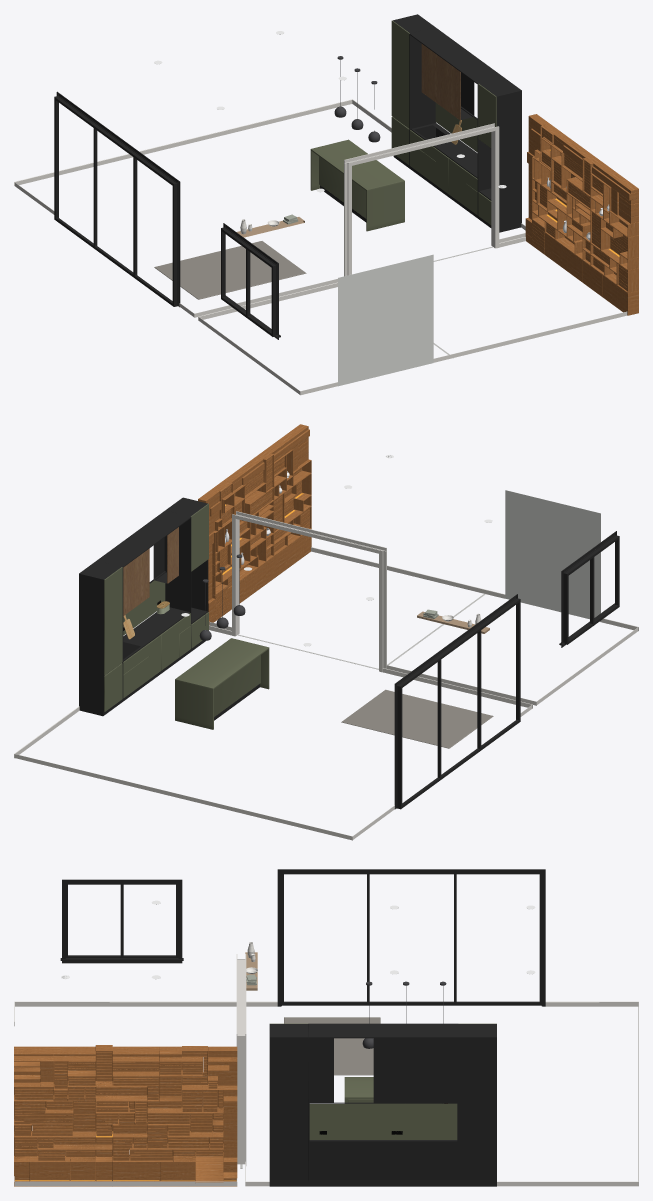
File: furniture_1.glb
3 views of the same model, one above another, from view 1: azimuth 30°, elevation 25°; view 2: azimuth 150°, elevation 25°; view 3: azimuth 270°, elevation 25° (orthographic). The views are drawn at different scales.
Visible parts, largest first — view 1: GF_Modern Abstract Decorative Shelf, GF_CFG_VanityWall, GF_Plane.060, GF_Plane.059, GF_CFG_Skirting, GF_Fix_Island_Body.001, GF_CFG_Rug, GF_Fix_WindowFrame_Main, GF_CFG_DoorTrim, GF_shelf.001, GF_Plane.061, GF_Plane.057 (+4 smaller); view 2: GF_Modern Abstract Decorative Shelf, GF_CFG_VanityWall, GF_Plane.059, GF_Plane.061, GF_Fix_Island_Body.001, GF_CFG_Skirting, GF_Plane.060, GF_CFG_Rug, GF_Fix_WindowFrame_Main, GF_CFG_DoorTrim, GF_shelf.001, GF_Plane.057 (+4 smaller); view 3: GF_Plane.061, GF_shelf.001, GF_Modern Abstract Decorative Shelf, GF_Plane.060, GF_Splashback, GF_CFG_Skirting, GF_Fix_WindowFrame_Main, GF_CFG_WindowTrim_Main, GF_CFG_DoorTrim, GF_CFG_Rug, GF_CFG_WindowTrim_Bed, GF_Fix_WindowFrame_Bed (+1 smaller).
Boxes of the visible parts, bbox=[...] form: GF_Modern Abstract Decorative Shelf: bbox=[525, 114, 638, 315]; GF_CFG_VanityWall: bbox=[338, 254, 433, 386]; GF_Plane.060: bbox=[409, 27, 521, 227]; GF_Plane.059: bbox=[391, 20, 496, 224]; GF_CFG_Skirting: bbox=[14, 99, 627, 395]; GF_Fix_Island_Body.001: bbox=[310, 139, 404, 231]; GF_CFG_Rug: bbox=[154, 241, 306, 299]; GF_Fix_WindowFrame_Main: bbox=[54, 96, 176, 306]; GF_CFG_DoorTrim: bbox=[344, 123, 499, 276]; GF_shelf.001: bbox=[535, 128, 627, 290]; GF_Plane.061: bbox=[393, 14, 521, 232]; GF_Plane.057: bbox=[421, 44, 460, 120]; GF_Modern Abstract Decorative Shelf: bbox=[198, 424, 311, 625]; GF_CFG_VanityWall: bbox=[505, 490, 600, 621]; GF_Plane.059: bbox=[104, 503, 208, 711]; GF_Plane.061: bbox=[79, 536, 205, 716]; GF_Fix_Island_Body.001: bbox=[175, 638, 269, 729]; GF_CFG_Skirting: bbox=[14, 547, 638, 840]; GF_Plane.060: bbox=[97, 497, 208, 698]; GF_CFG_Rug: bbox=[341, 689, 493, 748]; GF_Fix_WindowFrame_Main: bbox=[398, 598, 520, 809]; GF_CFG_DoorTrim: bbox=[232, 511, 386, 672]; GF_shelf.001: bbox=[215, 456, 309, 587]; GF_Plane.057: bbox=[123, 527, 178, 615]; GF_Plane.061: bbox=[269, 1024, 496, 1186]; GF_shelf.001: bbox=[14, 1051, 222, 1160]; GF_Modern Abstract Decorative Shelf: bbox=[14, 1045, 237, 1186]; GF_Plane.060: bbox=[269, 1023, 458, 1181]; GF_Splashback: bbox=[309, 1104, 457, 1139]; GF_CFG_Skirting: bbox=[14, 1001, 638, 1186]; GF_Fix_WindowFrame_Main: bbox=[282, 873, 541, 1005]; GF_CFG_WindowTrim_Main: bbox=[277, 869, 545, 1006]; GF_CFG_DoorTrim: bbox=[236, 954, 246, 1165]; GF_CFG_Rug: bbox=[284, 1017, 380, 1075]; GF_CFG_WindowTrim_Bed: bbox=[60, 879, 183, 963]; GF_Fix_WindowFrame_Bed: bbox=[66, 883, 178, 957].
Bounding box in the file's own units: 7.61 × 2.9 × 11.
Materials: 33 (8 with a texture image).
